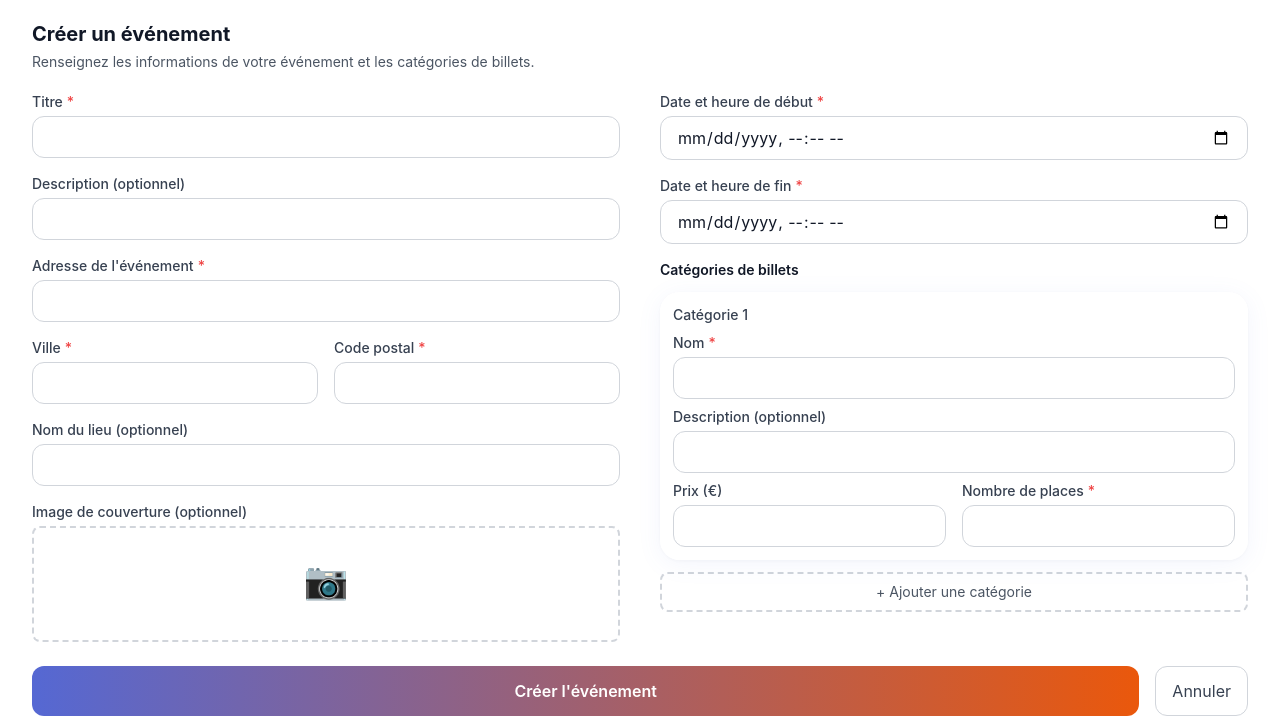
it: CreateEventPage - client-side validation › requires a title
Click the button "Créer l'événement". click: (586, 691)
box: [32,666,1139,716]
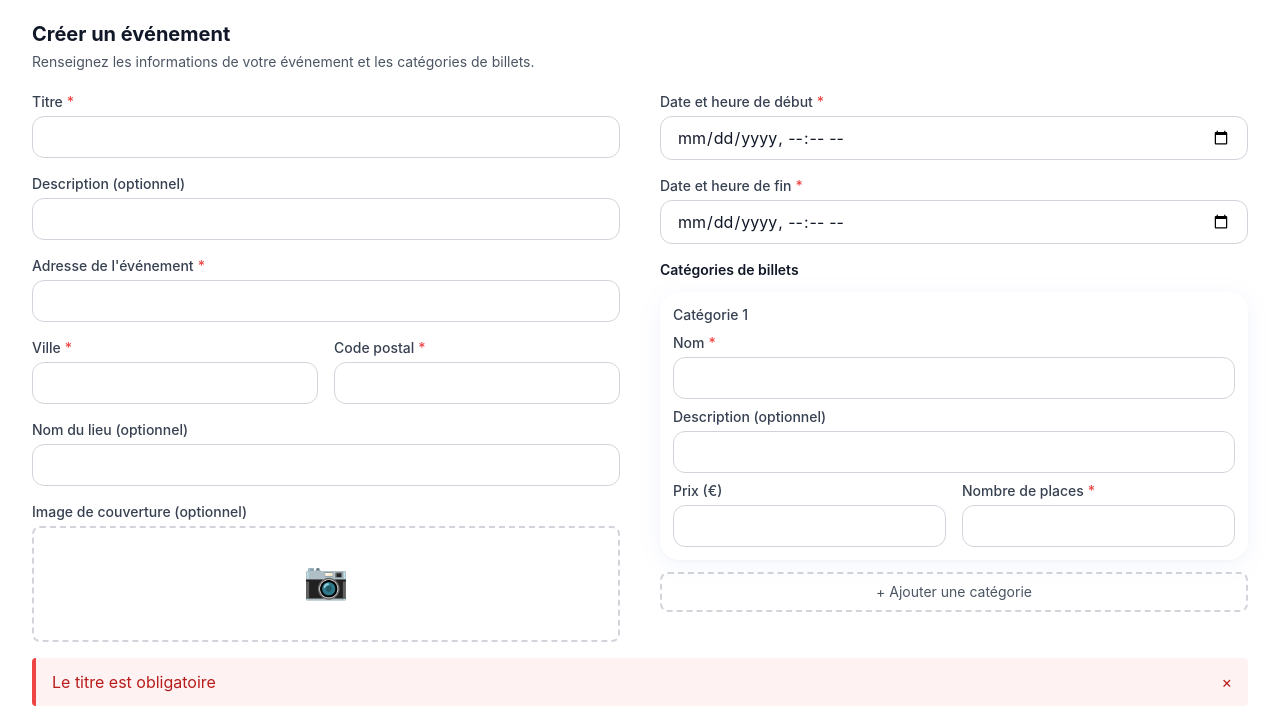
Expected: the text "Le titre est obligatoire" is shown, [52,670,216,694]
